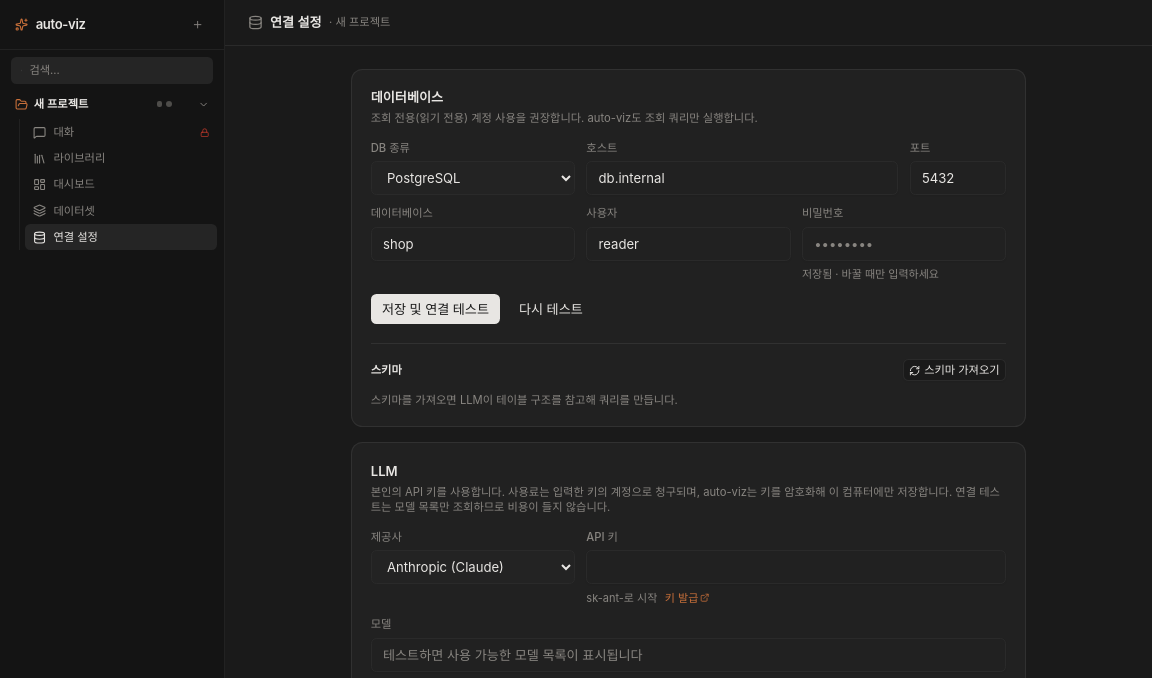
데이터베이스 연결 › 비밀번호를 비워두고 저장하면 password 필드를 보내지 않는다 (기존 비밀번호 유지)
The width and height of the screenshot is (1152, 678).
expect the dropdown labelled "DB 종류" is shown: met, box left=371, top=161, right=575, bottom=195
expect the field labelled "호스트" holds "db.internal": met, box left=586, top=161, right=898, bottom=195
Click the button "저장 및 연결 테스트".
click(436, 309)  # box left=371, top=294, right=500, bottom=324
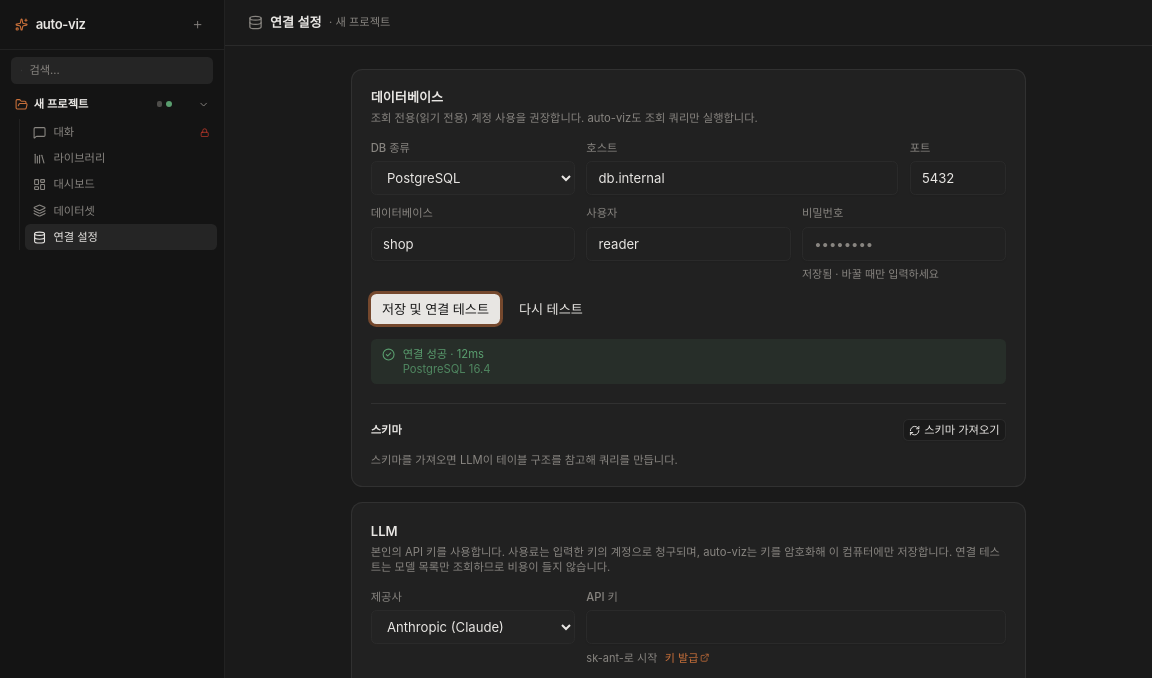
expect the message "연결 성공 · 12ms PostgreSQL 16.4" is shown: met, box left=371, top=339, right=1006, bottom=384
